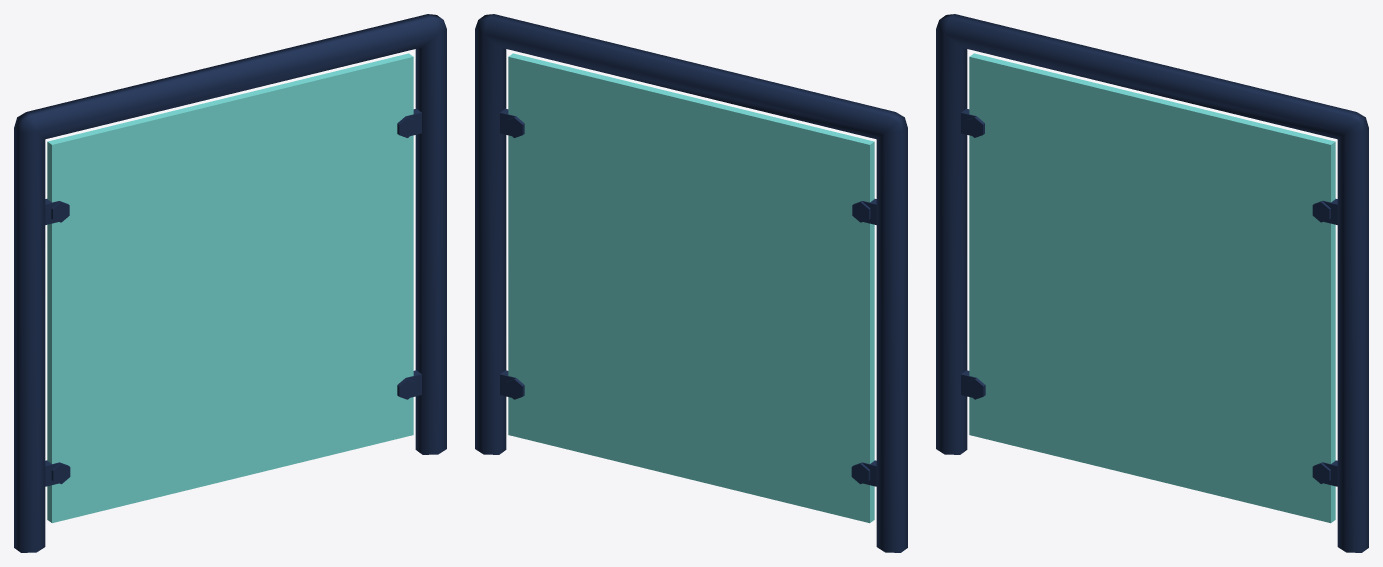
The model's file is Rail Test.fbx.
3 views of the same model, side by side, from view 1: azimuth 30°, elevation 25°; view 2: azimuth 150°, elevation 25°; view 3: azimuth 330°, elevation 25° (orthographic).
Parts seen in each view (by area): view 1: Cylinder.002; view 2: Cylinder.002; view 3: Cylinder.002.
Boxes of the visible parts, bbox=[...] form: Cylinder.002: bbox=[14, 14, 446, 552]; Cylinder.002: bbox=[475, 14, 907, 552]; Cylinder.002: bbox=[936, 14, 1368, 552].
Size of the model in its own units: 1.06 by 1.03 by 0.06.
